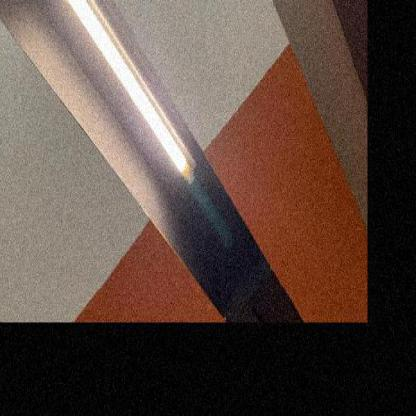light_on: (29, 0, 211, 218)
